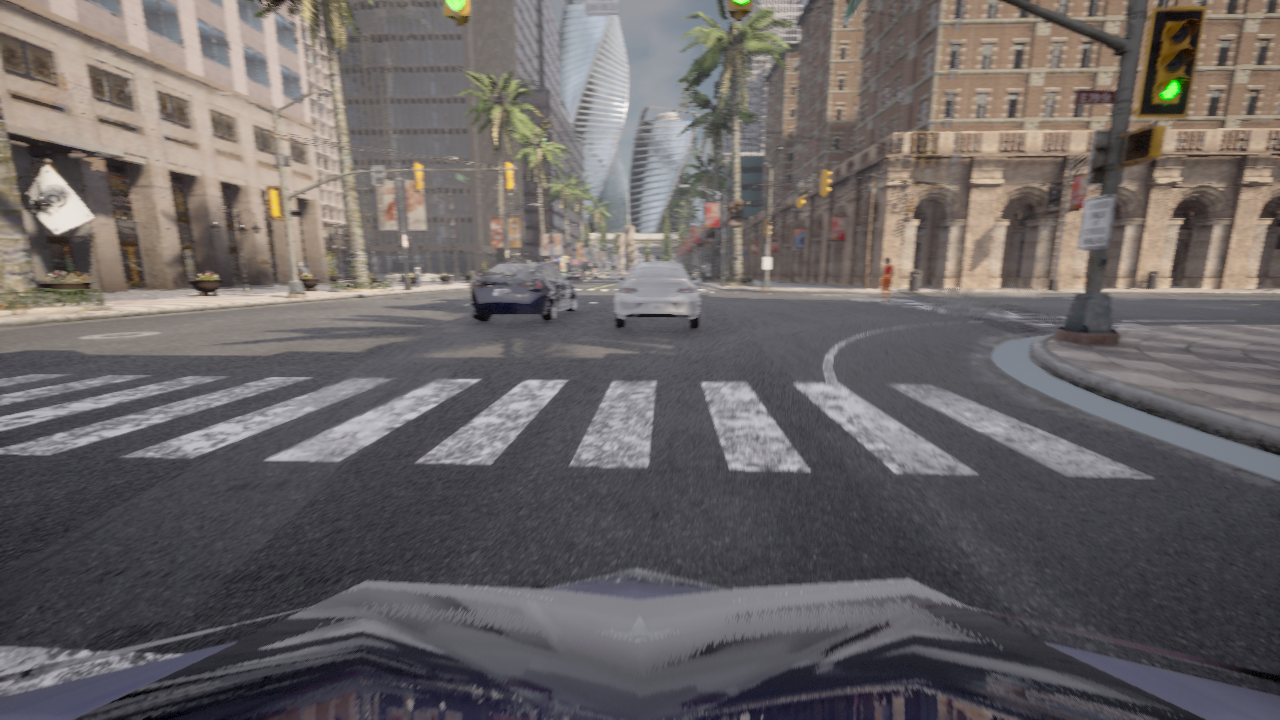cyclist: (0, 569, 1279, 719), (610, 262, 706, 328), (470, 262, 577, 321), (566, 270, 582, 280), (592, 272, 602, 278), (583, 275, 587, 279)
pedestrian: (879, 259, 893, 301), (414, 264, 422, 286)
